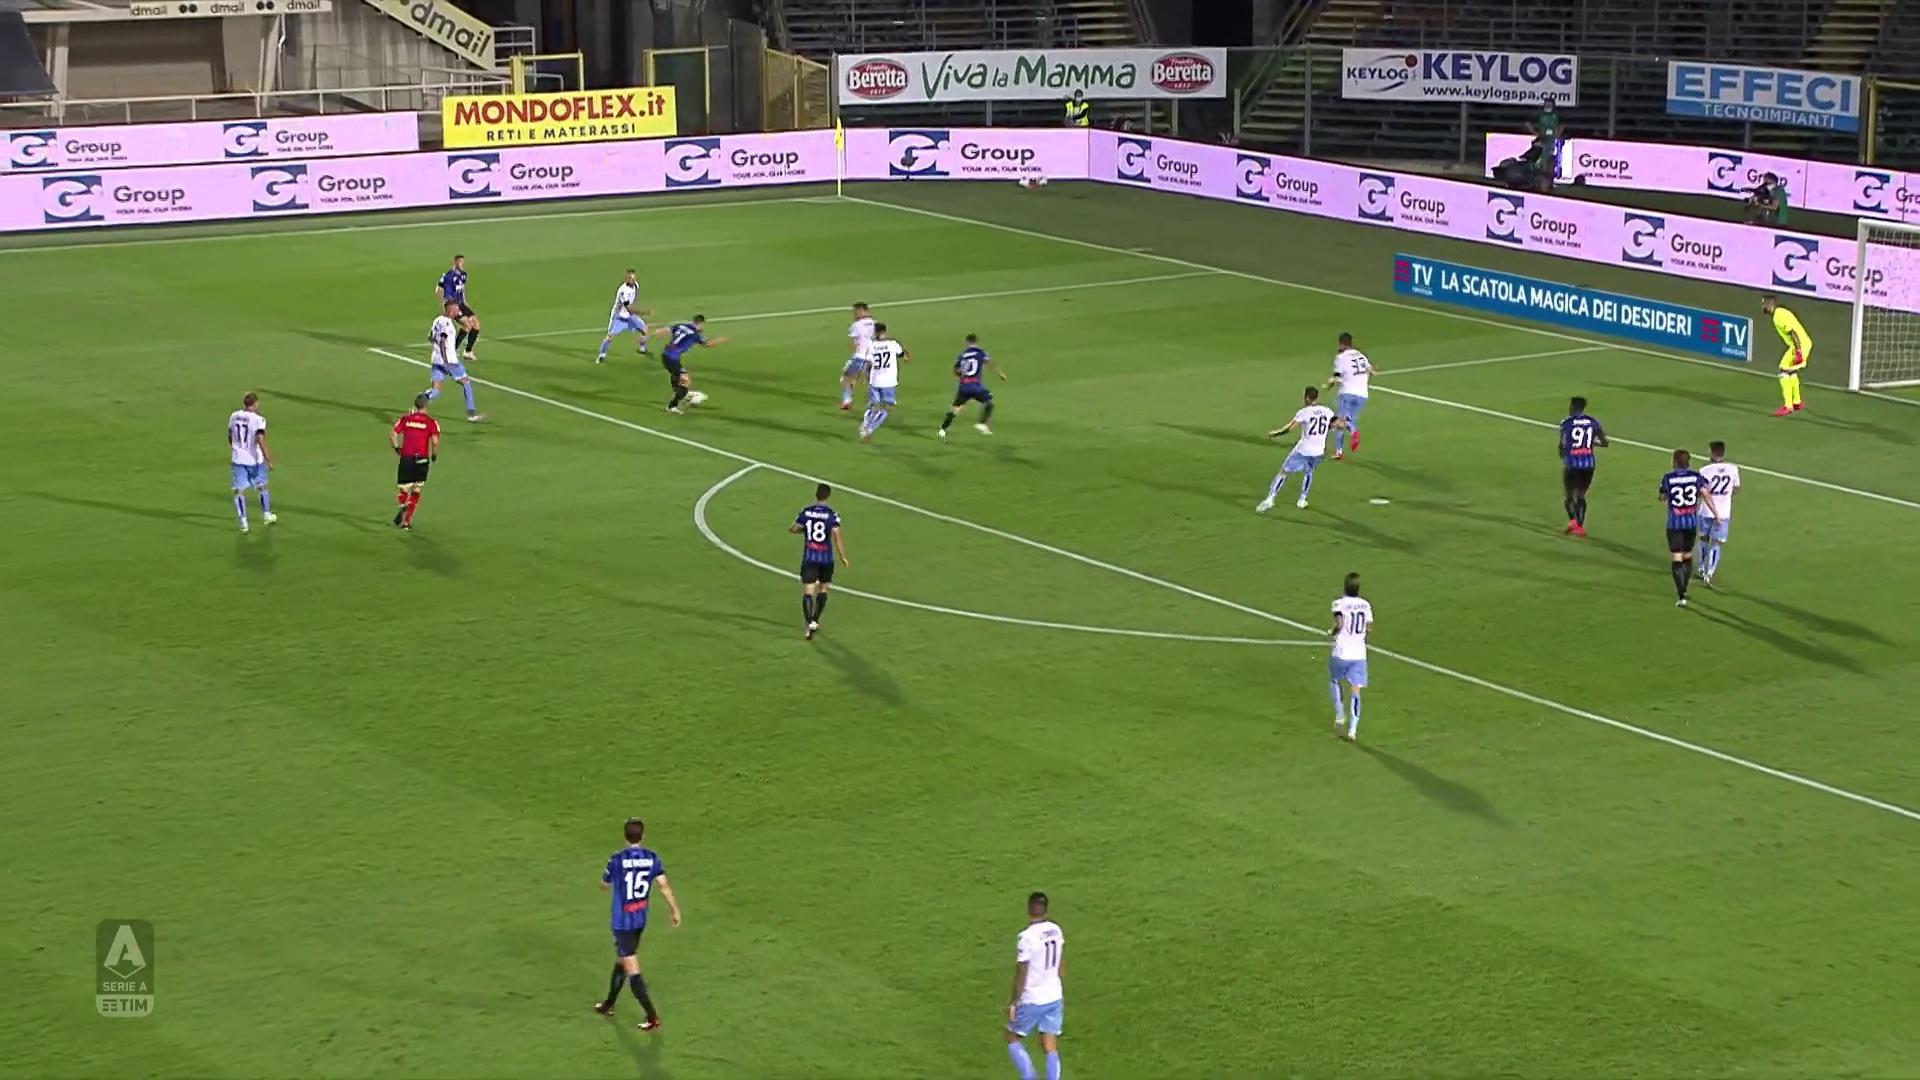ball: (684, 387, 709, 414)
goalkeeper: (1756, 288, 1820, 420)
player: (590, 812, 678, 1031), (1004, 887, 1074, 1077), (1256, 383, 1340, 518), (1320, 573, 1382, 750), (789, 484, 852, 648), (1656, 446, 1713, 611), (420, 304, 492, 429), (1694, 439, 1753, 590), (223, 388, 282, 536), (1554, 391, 1612, 540), (937, 331, 1009, 447), (1325, 328, 1379, 459), (854, 324, 911, 445), (656, 311, 717, 418), (834, 301, 887, 417), (595, 270, 657, 365), (433, 252, 482, 361)
referee: (389, 394, 442, 534)
